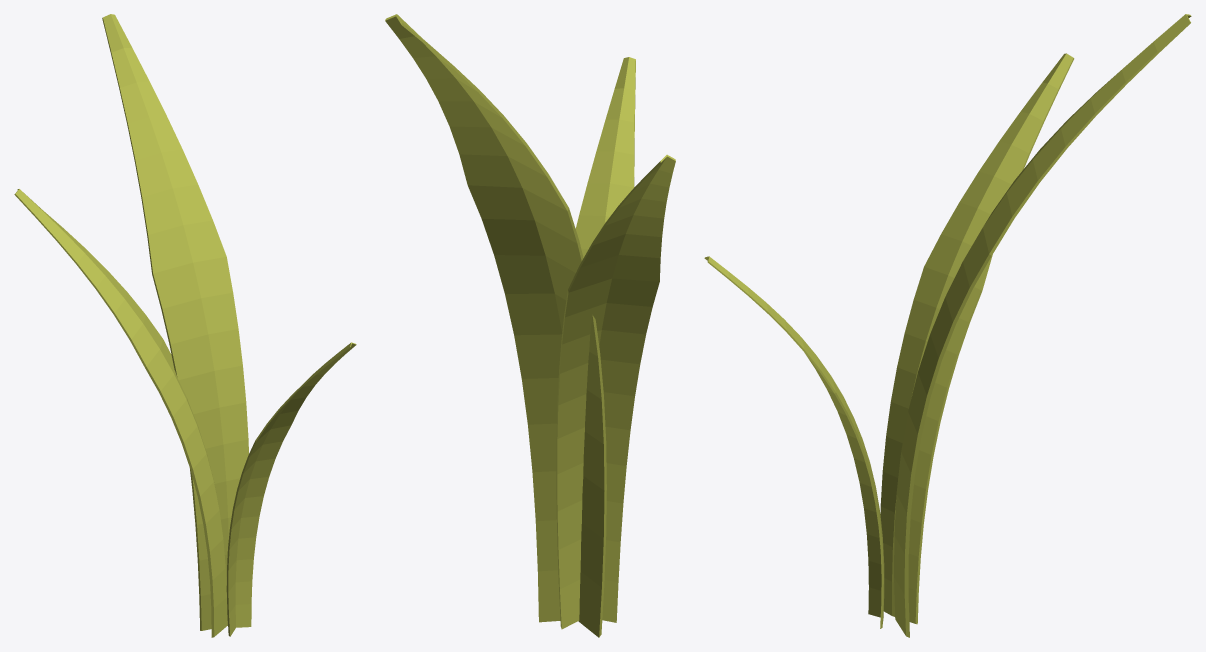
The model's file is grass_01.fbx.
3 views of the same model, side by side, from view 1: azimuth 30°, elevation 25°; view 2: azimuth 150°, elevation 25°; view 3: azimuth 270°, elevation 25° (orthographic). The views are drawn at different scales.
Visible parts, largest first — view 1: Cube.028; view 2: Cube.028; view 3: Cube.028.
Boxes of the visible parts, x1,y1,x2,y2 form: Cube.028: (14,14,356,637); Cube.028: (385,14,675,637); Cube.028: (704,14,1191,637).
Bounding box in the file's own units: 26.63 × 70.41 × 50.6.
